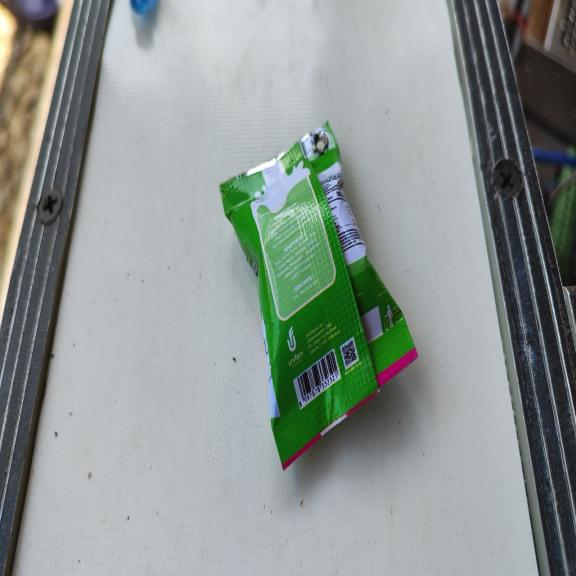Plastik: (219, 118, 419, 472)
